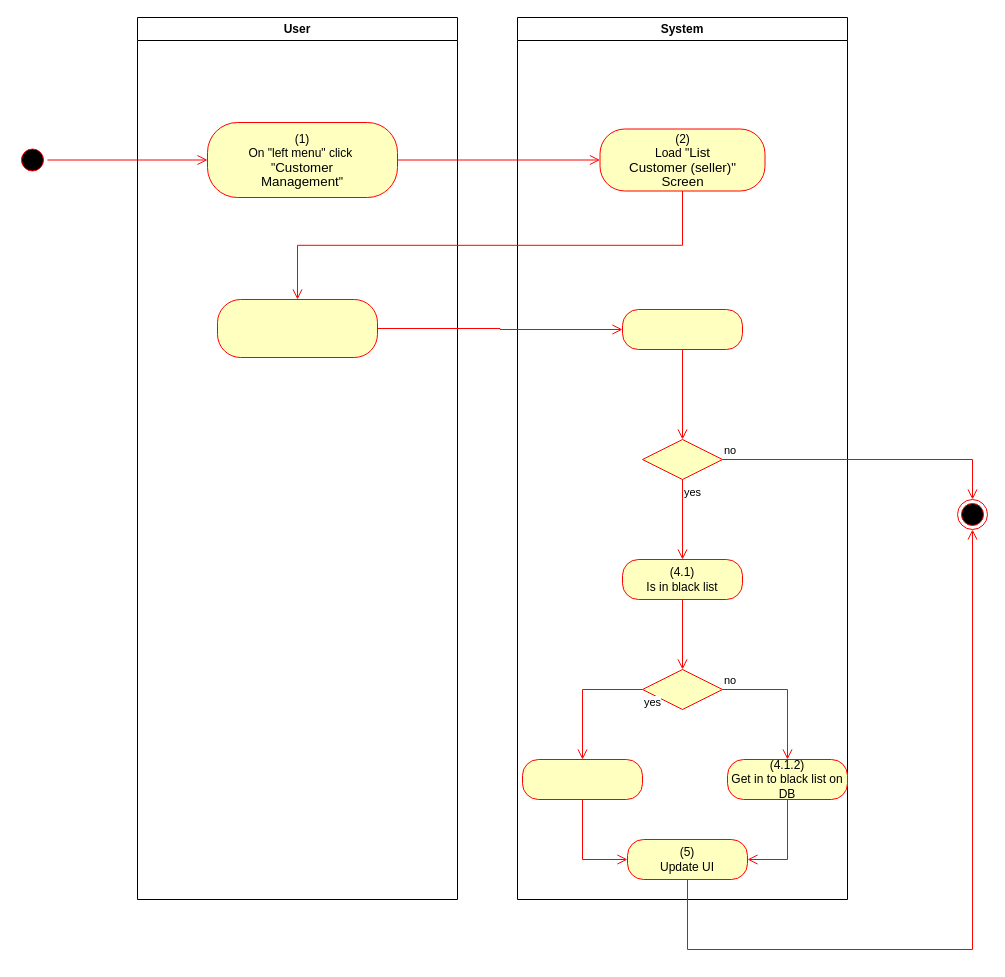
The diagram is 1005 pixels wide and 977 high, and some of its shapes have lost their labels. Here are the shapes that lost their labels. From the top down, the centre of each, then its label:
At point 297,328: "(3) Click checkbox black list".
At point 682,329: "(4) Open Yes/No dialog".
At point 582,779: "(4.1.1) Get out black list on DB".
